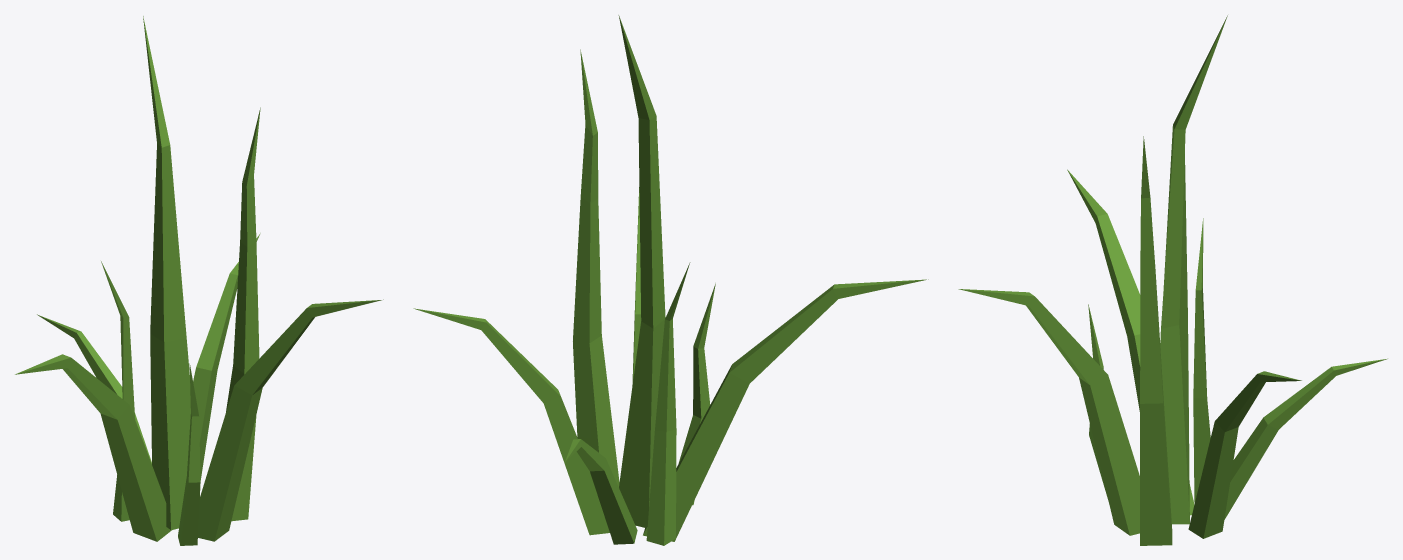
Rendered from Grass_01 2.glb.
3 views of the same model, side by side, from view 1: azimuth 30°, elevation 25°; view 2: azimuth 150°, elevation 25°; view 3: azimuth 270°, elevation 25° (orthographic). The views are drawn at different scales.
Parts seen in each view (by area): view 1: Grass_01_LOD0; view 2: Grass_01_LOD0; view 3: Grass_01_LOD0.
Boxes of the visible parts, x1,y1,x2,y2 form: Grass_01_LOD0: [15, 16, 383, 545]; Grass_01_LOD0: [413, 15, 928, 545]; Grass_01_LOD0: [958, 15, 1387, 545].
Size of what is drawn, in the model's own units: 0.2889 by 0.3791 by 0.2913.
Materials: 1 (1 with a texture image).
